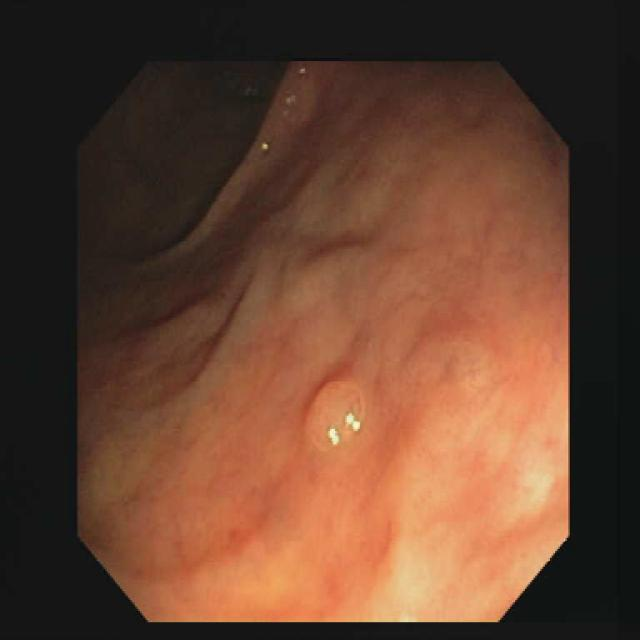tumor: (305, 378, 363, 449)
